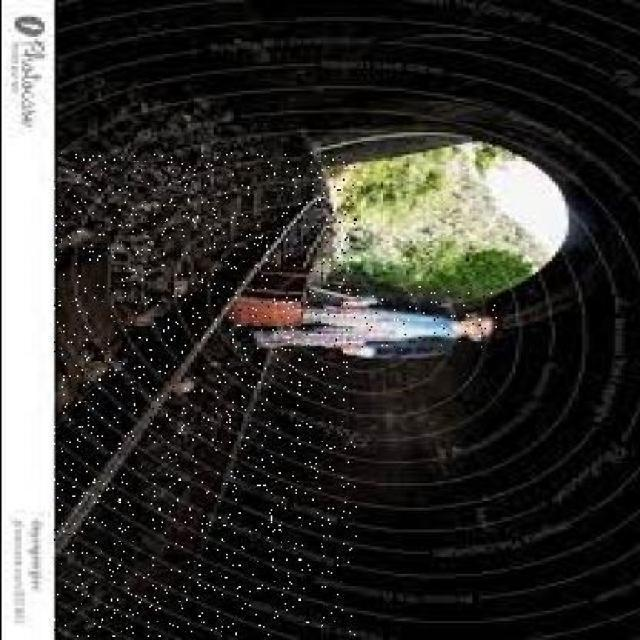rail: (53, 154, 356, 638)
